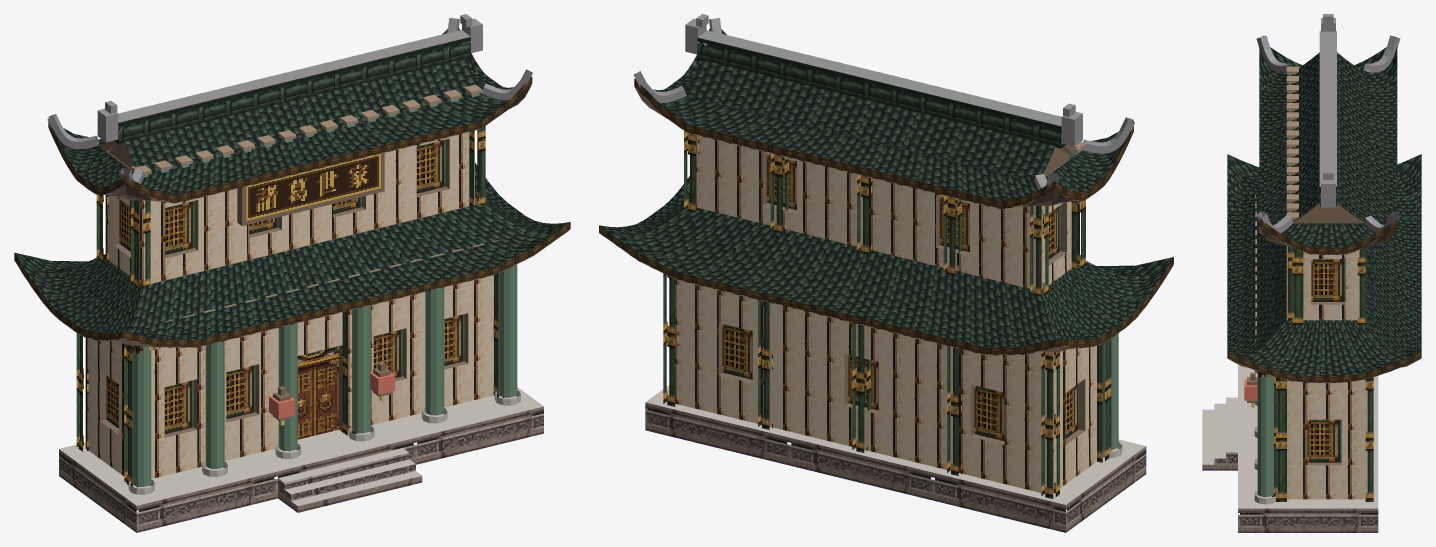
File: g_jegal_house_red.glb
3 renders of one model, left to right at view 1: azimuth 30°, elevation 25°; view 2: azimuth 150°, elevation 25°; view 3: azimuth 270°, elevation 25°, orthographic. The views are drawn at different scales.
Visible parts, largest first — view 1: roof, plaster, col, stone, stonetop, win, eave, ridge, post, ridgeend, plaque, reveal (+5 smaller); view 2: plaster, roof, post, stone, eave, ridge, ridgeend, win, stonetop, reveal, under, col; view 3: roof, plaster, stonetop, ridgeend, post, stone, win, eave, col, woodl, wood, under.
Boxes of the visible parts, bbox=[...] form: roof: bbox=[14, 27, 569, 340]; plaster: bbox=[85, 130, 493, 478]; col: bbox=[132, 264, 517, 486]; stone: bbox=[59, 406, 543, 532]; stonetop: bbox=[59, 387, 543, 505]; win: bbox=[106, 139, 464, 434]; eave: bbox=[14, 76, 570, 347]; ridge: bbox=[114, 37, 470, 144]; post: bbox=[76, 126, 505, 487]; ridgeend: bbox=[47, 14, 532, 186]; plaque: bbox=[246, 153, 380, 220]; reveal: bbox=[100, 138, 468, 437]; plaster: bbox=[675, 135, 1096, 493]; roof: bbox=[599, 28, 1173, 347]; post: bbox=[663, 131, 1111, 498]; stone: bbox=[645, 402, 1146, 532]; eave: bbox=[599, 78, 1173, 355]; ridge: bbox=[697, 37, 1065, 148]; ridgeend: bbox=[633, 14, 1134, 193]; win: bbox=[722, 154, 1078, 441]; stonetop: bbox=[645, 385, 1145, 504]; reveal: bbox=[718, 153, 1085, 444]; under: bbox=[599, 87, 1173, 355]; col: bbox=[1102, 333, 1118, 449]; roof: bbox=[1227, 46, 1421, 375]; plaster: bbox=[1287, 250, 1367, 499]; stonetop: bbox=[1202, 364, 1378, 508]; ridgeend: bbox=[1256, 14, 1400, 233]; post: bbox=[1272, 246, 1373, 501]; stone: bbox=[1202, 452, 1378, 532]; win: bbox=[1307, 259, 1345, 462]; eave: bbox=[1227, 218, 1421, 382]; col: bbox=[1257, 371, 1273, 497]; woodl: bbox=[1255, 66, 1299, 342]; wood: bbox=[1247, 203, 1363, 402]; under: bbox=[1227, 225, 1419, 382].
Size of the model in its own units: 86.83 by 71.48 by 40.69.
20 materials, 10 textured.
